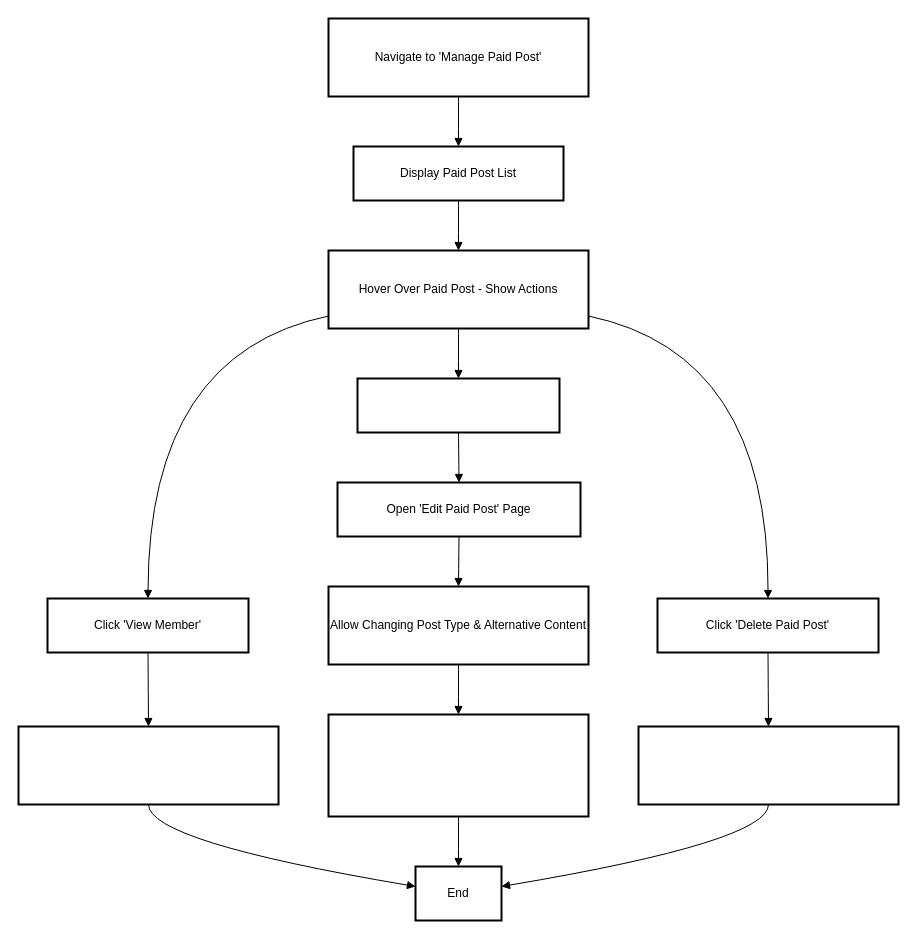
The diagram is 916 pixels wide and 938 high, and some of its shapes have lost their labels. Here are the shapes that lost their labels. From the top down, the centre of each, then its label:
At [458,405]: "Click 'Edit Paid Post'".
At [148,765]: "Display Members with Paid Post Access".
At [458,765]: "Click 'Save' - Changes Apply Only to New Members".
At [768,765]: "Remove Restriction from Paid Post".
